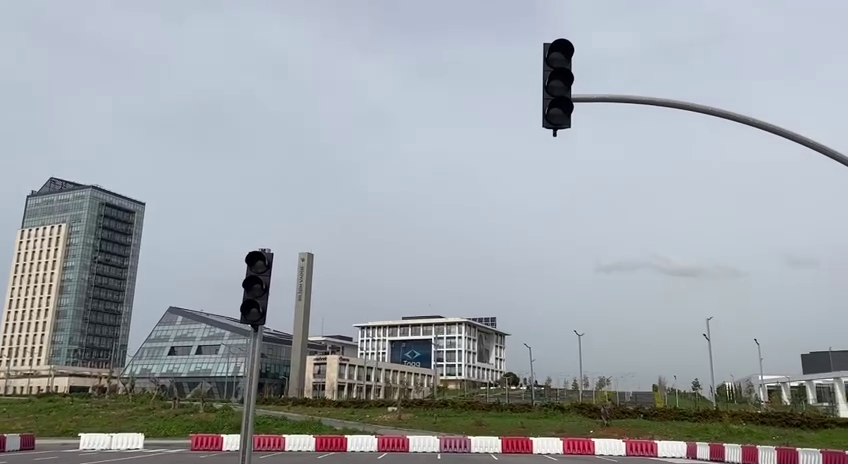trafficLight: (537, 34, 577, 140), (237, 245, 278, 331)
